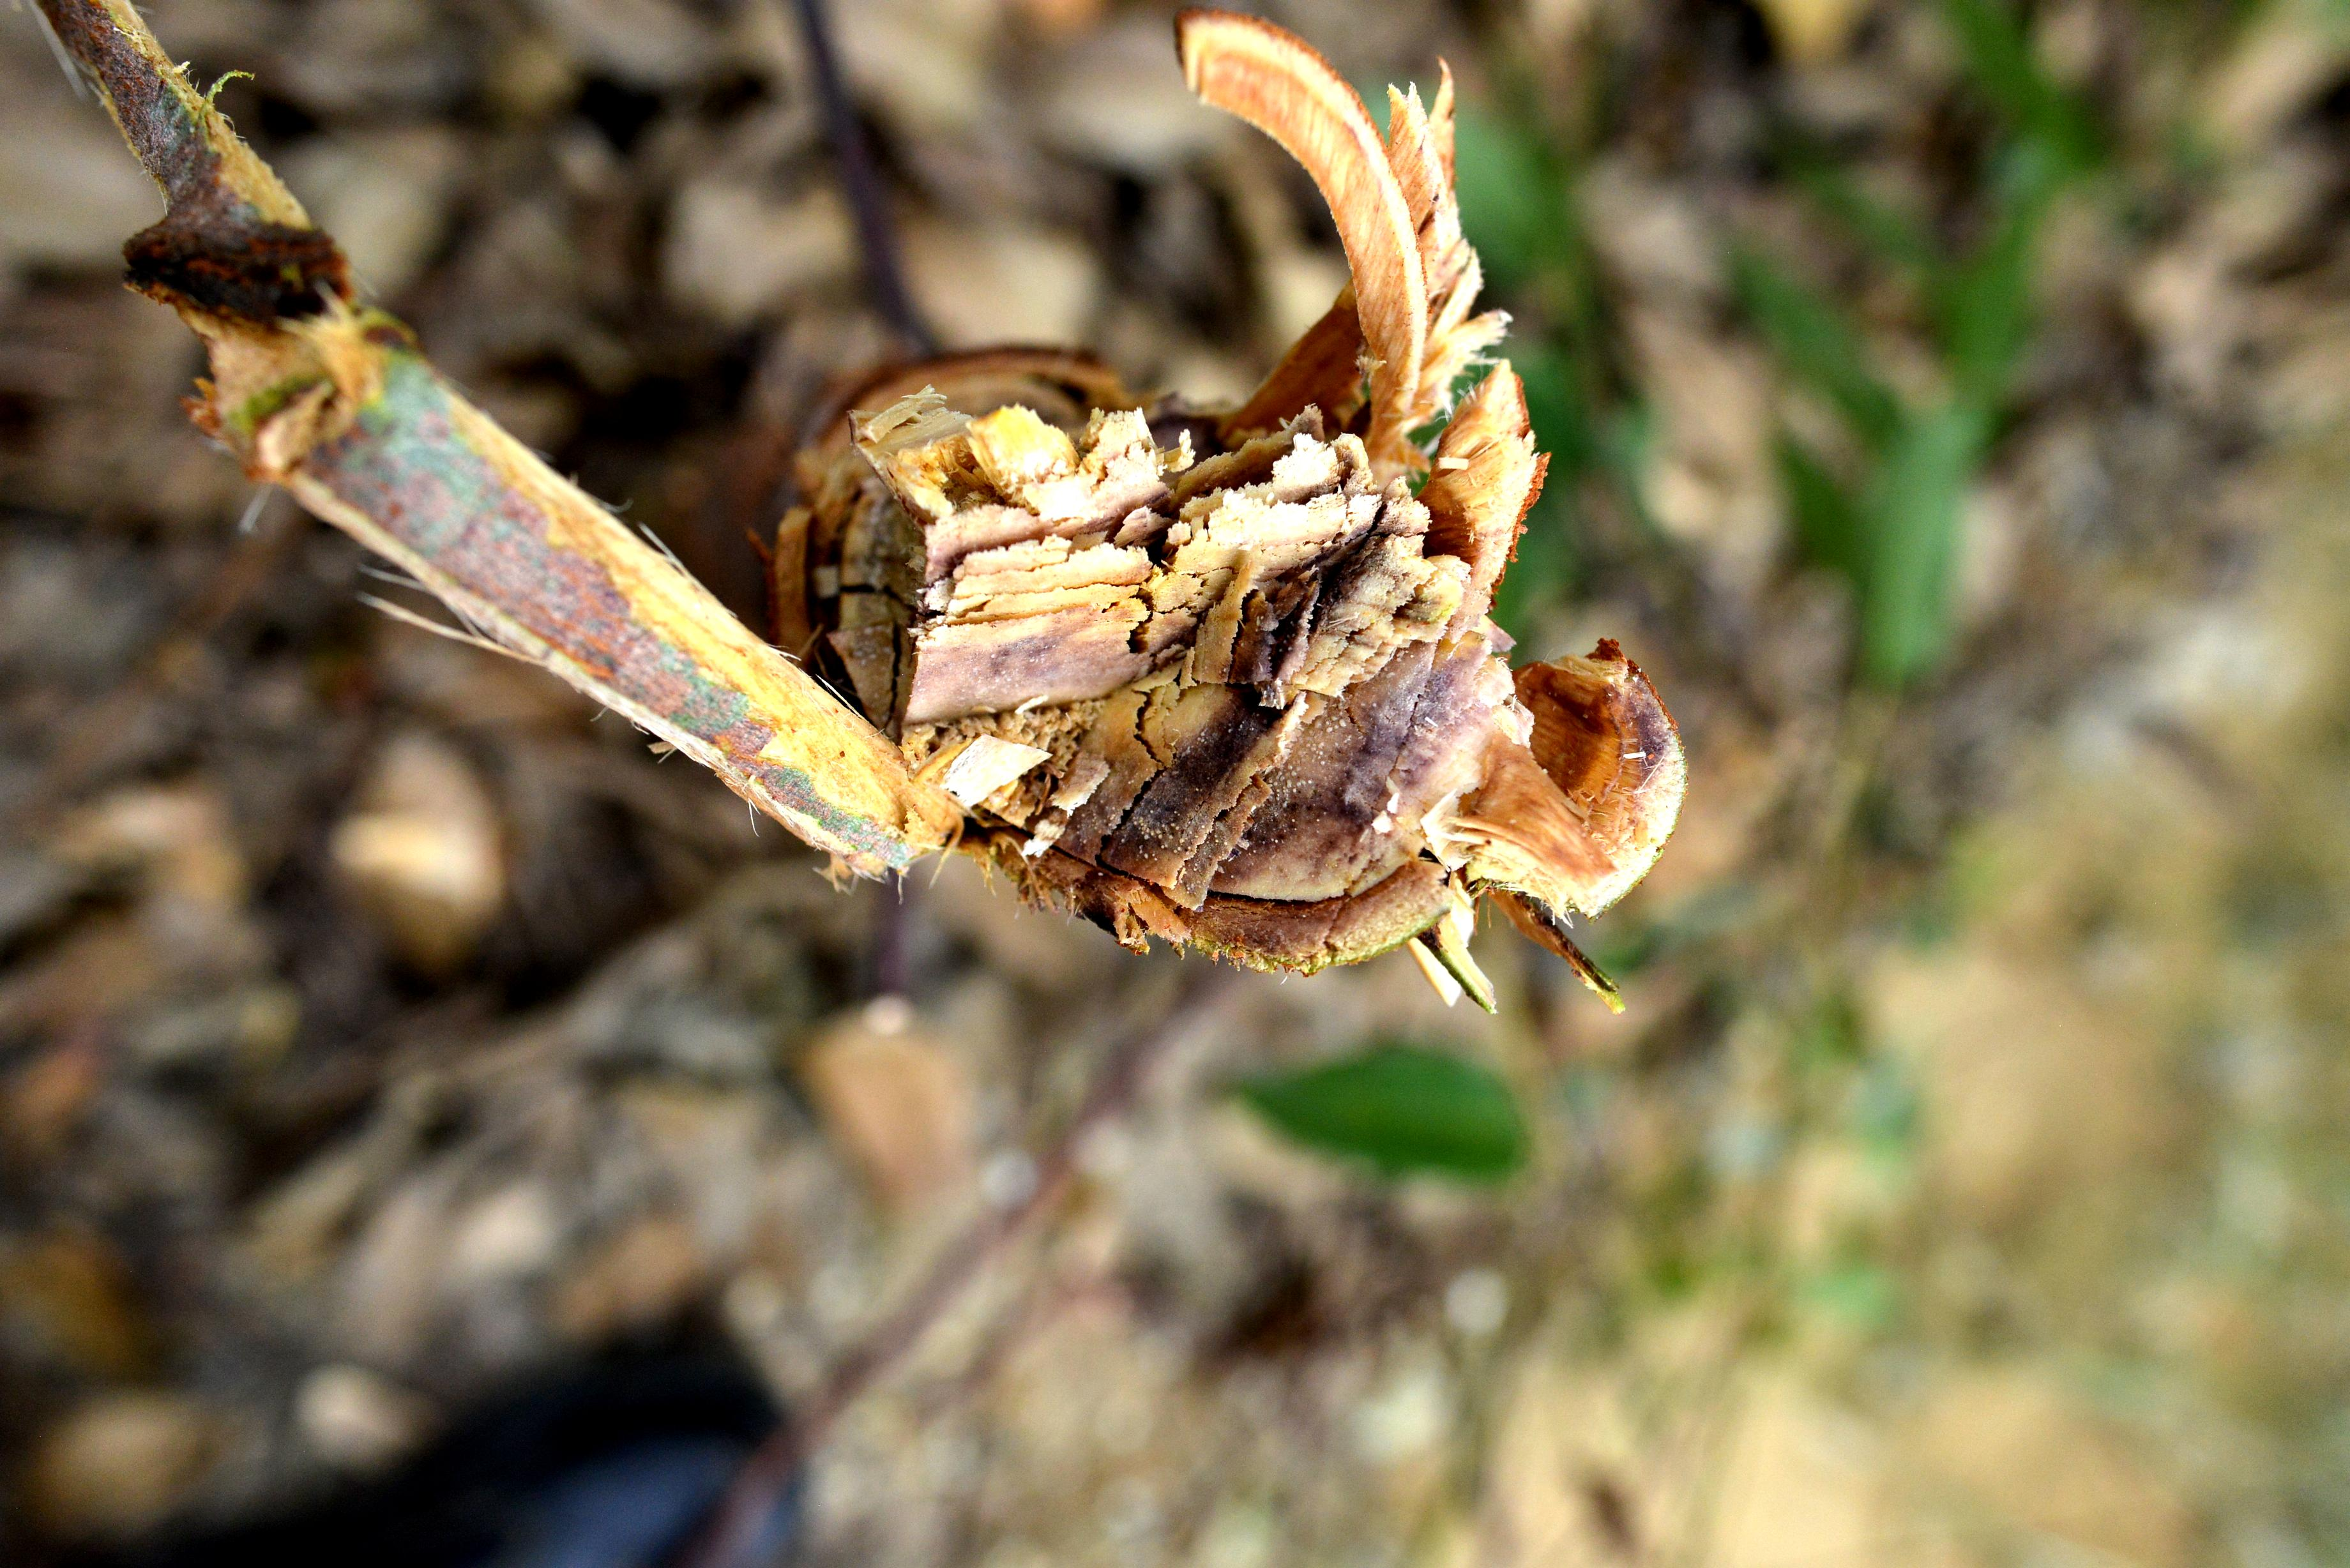Ralstonia: (1255, 709, 1354, 852), (1099, 810, 1228, 887), (950, 632, 1066, 698), (1263, 602, 1307, 663)
